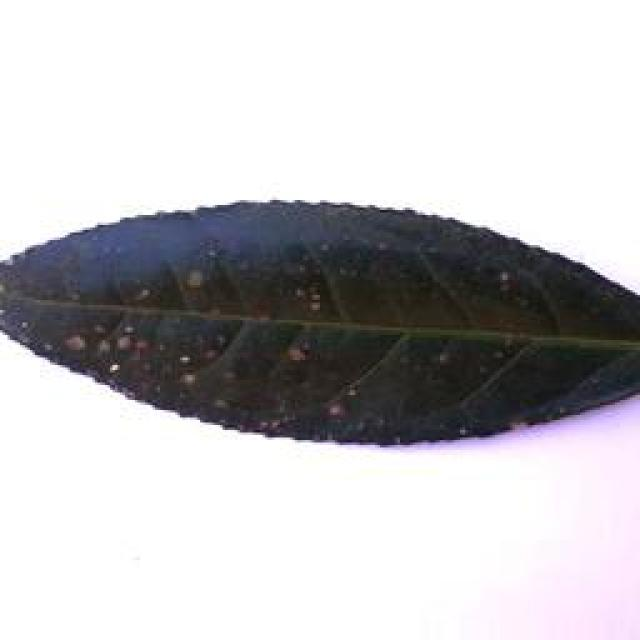Algal Leaf Spot: (2, 175, 640, 470)
